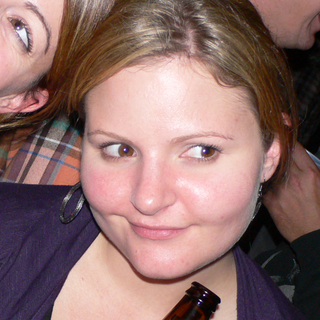eye: (3, 10, 36, 53), (179, 140, 226, 164), (95, 139, 141, 163)
